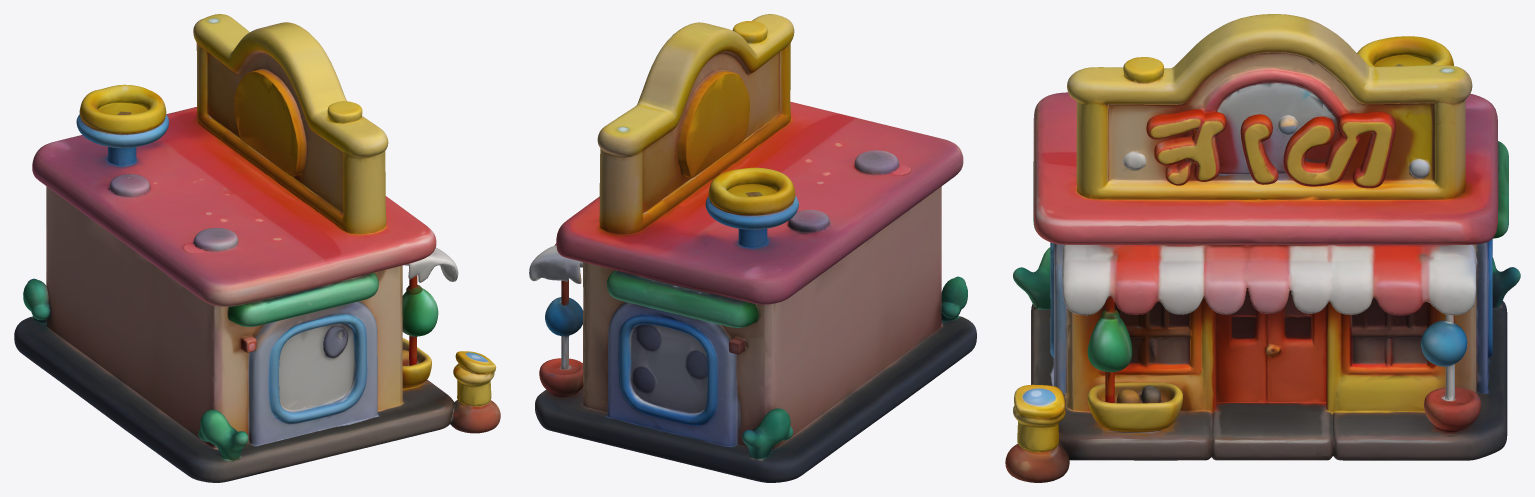
The model's file is building-toy-shop.glb.
The picture shows the model from 3 angles, left to right: view 1: azimuth 30°, elevation 25°; view 2: azimuth 150°, elevation 25°; view 3: azimuth 270°, elevation 25°; orthographic projection. The views are drawn at different scales.
Parts seen in each view (by area): view 1: tripo_node_3697e683-a159-4c41-a5c6-90823bfefd91; view 2: tripo_node_3697e683-a159-4c41-a5c6-90823bfefd91; view 3: tripo_node_3697e683-a159-4c41-a5c6-90823bfefd91.
Part boxes in pixels (x1=…): tripo_node_3697e683-a159-4c41-a5c6-90823bfefd91: x1=14, y1=14, x2=500, y2=482; tripo_node_3697e683-a159-4c41-a5c6-90823bfefd91: x1=529, y1=14, x2=976, y2=482; tripo_node_3697e683-a159-4c41-a5c6-90823bfefd91: x1=1005, y1=14, x2=1520, y2=482.
Bounding box in the file's own units: 4.58 × 5 × 5.81.
1 material, 1 textured.
